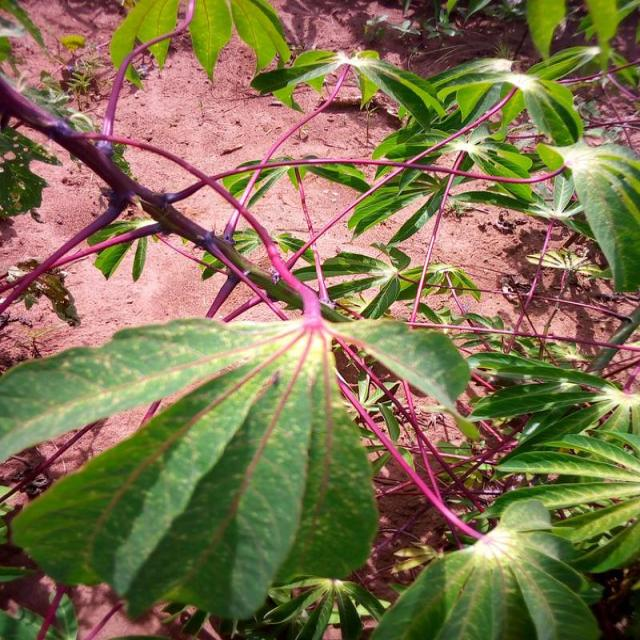cassava leaf: (7, 315, 379, 624), (369, 497, 602, 638)
